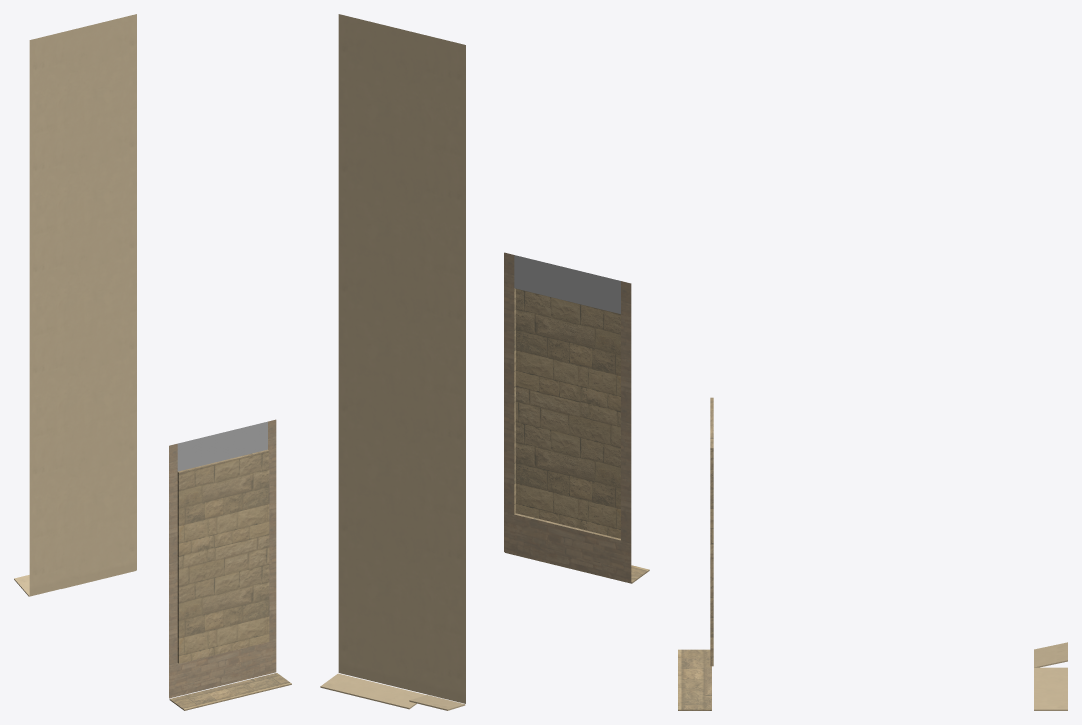
Rendered from unit-link-west-upper.glb.
The picture shows the model from 3 angles, left to right: view 1: azimuth 30°, elevation 25°; view 2: azimuth 150°, elevation 25°; view 3: azimuth 270°, elevation 25°; orthographic projection. The views are drawn at different scales.
Parts seen in each view (by area): view 1: bz06_cream_plaster-cast, bz06_dressed_sandstone-cast, bz06_service_stone-cast, ph_bz04_stone_trim_sandstone-cast; view 2: bz06_cream_plaster-cast, bz06_dressed_sandstone-cast, bz06_service_stone-cast, ph_bz04_stone_trim_sandstone-cast; view 3: bz06_dressed_sandstone-cast, bz06_cream_plaster-cast.
Boxes of the visible parts, bbox=[...] form: bz06_cream_plaster-cast: bbox=[14, 14, 136, 596]; bz06_dressed_sandstone-cast: bbox=[169, 449, 291, 710]; bz06_service_stone-cast: bbox=[169, 419, 276, 698]; ph_bz04_stone_trim_sandstone-cast: bbox=[177, 421, 267, 471]; bz06_cream_plaster-cast: bbox=[320, 14, 465, 710]; bz06_dressed_sandstone-cast: bbox=[505, 288, 649, 583]; bz06_service_stone-cast: bbox=[504, 252, 631, 582]; ph_bz04_stone_trim_sandstone-cast: bbox=[514, 255, 620, 313]; bz06_dressed_sandstone-cast: bbox=[678, 397, 713, 710]; bz06_cream_plaster-cast: bbox=[1034, 642, 1067, 710].
Size of the model in its own units: 2 by 9.92 by 5.5.
Materials: 4 (3 with a texture image).
